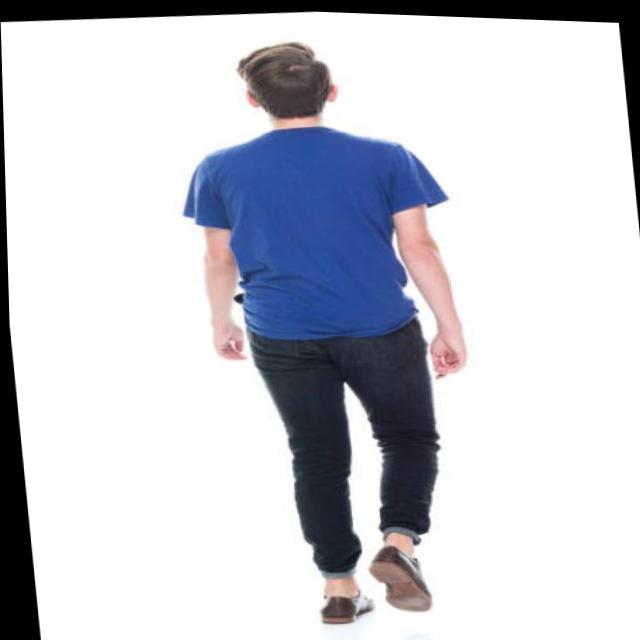no helmet: (211, 36, 358, 141)
